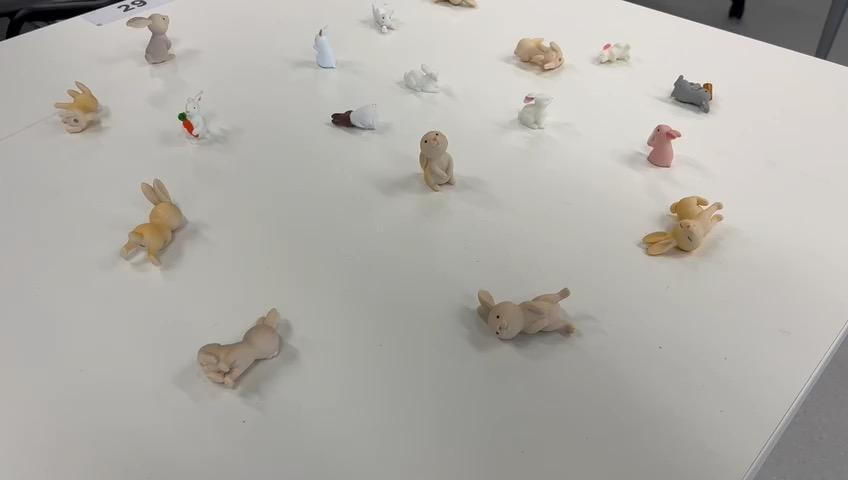pet: (193, 301, 297, 399), (469, 278, 585, 355), (115, 175, 193, 279), (639, 192, 733, 271), (123, 0, 181, 74), (53, 75, 113, 136), (499, 27, 567, 80), (177, 93, 228, 154), (511, 84, 559, 137), (328, 97, 388, 139), (638, 117, 684, 171), (413, 130, 455, 187), (668, 70, 711, 121), (403, 64, 458, 100), (306, 20, 340, 78), (593, 32, 636, 74), (364, 0, 405, 44)
